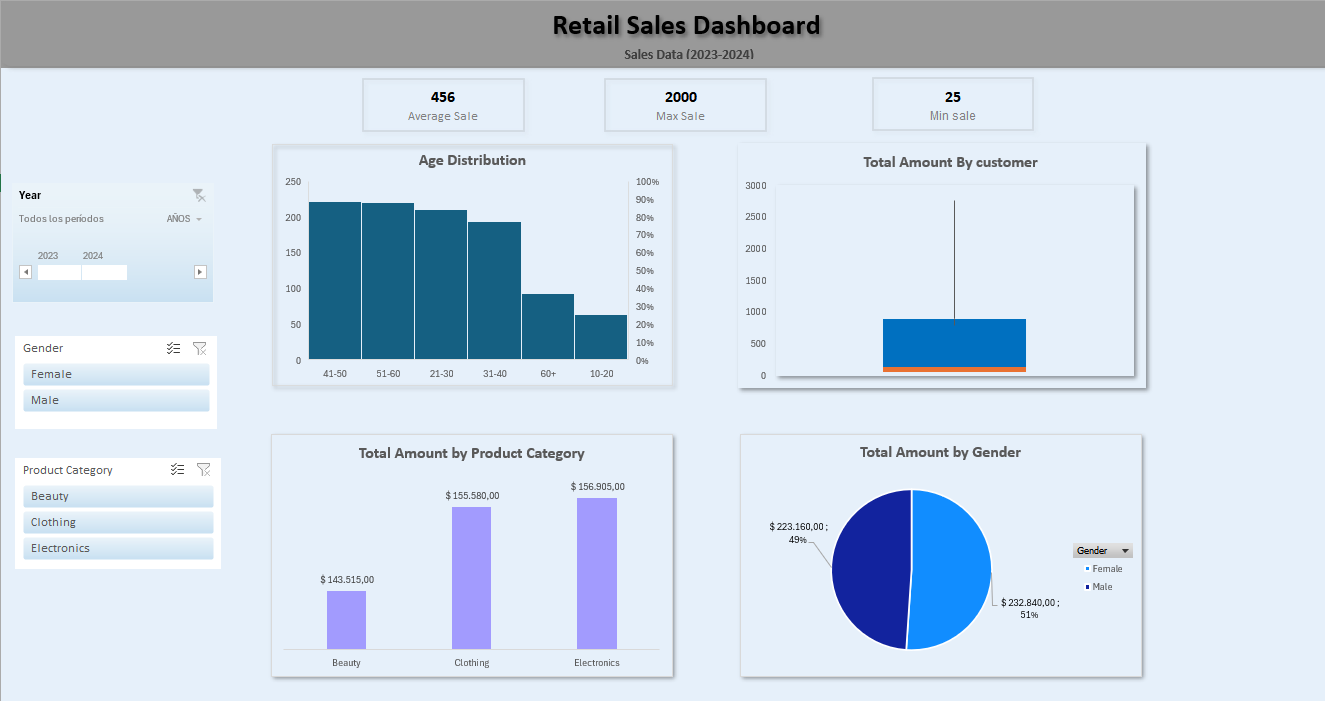

Layout of this report page (visuals, bound fields, positions):
{"tool":"powerbi","page":{"name":"Página 1","canvas":[1280,720],"ordinal":0},"visuals":[{"type":"shape","box":[0,0,1280,82],"z":0},{"type":"histogramF963F133BA02A0B35D286F09F80E9C78","title":"Age distribution","fields":{"col_2":["retail_sales_dataset__2.Age group"],"col_3":["retail_sales_dataset__2.Customer ID"]},"box":[309.6,202.4,400,260],"z":1000},{"type":"BoxandWhiskerByMAQ1823AD39DT234AB532063E128AX","title":"Total amount by customer","fields":{"category":["retail_sales_dataset__2.Customer ID"],"measure":["Sum(retail_sales_dataset__2.Total Amount)"]},"box":[817.6,202.4,400,260],"z":2000},{"type":"clusteredBarChart","title":"Total Amount by Product Category","fields":{"Category":["retail_sales_dataset__2.Product Category"],"Y":["Sum(retail_sales_dataset__2.Total Amount)"]},"box":[309.8,463.1,399.7,248.4],"z":3000},{"type":"pieChart","title":"Total Amount by Gender","fields":{"Category":["retail_sales_dataset__2.Gender"],"Y":["Sum(retail_sales_dataset__2.Total_amount)"]},"box":[817.9,463.1,399.7,248.4],"z":4000},{"type":"card","fields":{"Values":["retail_sales_dataset__2.average sale"]},"box":[153.8,88,280,100],"z":5000},{"type":"card","fields":{"Values":["retail_sales_dataset__2.Max sale"]},"box":[510,88,280,100],"z":6000},{"type":"card","fields":{"Values":["retail_sales_dataset__2.Min sale"]},"box":[863.1,88,280,100],"z":7000},{"type":"slicer","title":"Year","fields":{"Values":["Calendario.Año"]},"box":[0,213.7,290.4,119.6],"z":8000},{"type":"slicer","title":"Gender","fields":{"Values":["retail_sales_dataset__2.Gender"]},"box":[10.2,374.2,280.1,120.6],"z":9000},{"type":"slicer","title":"Category","fields":{"Values":["retail_sales_dataset__2.Product Category"]},"box":[10.2,549,280.1,150.3],"z":10000},{"type":"textbox","box":[10.1,0,1241.5,74.9],"z":11000},{"type":"textbox","box":[513,57.7,299.5,24.3],"z":12000}]}

Visuals, with their boxes on the page's 1280x720 design canvas (x1, y1, x2, y2). These are canvas units, not pixel positions in the 1325x701 screenshot, which may show the page scaled, cropped or inside an application window:
shape: rect(0, 0, 1280, 82)
"Age distribution" histogramF963F133BA02A0B35D286F09F80E9C78: rect(310, 202, 710, 462)
"Total amount by customer" BoxandWhiskerByMAQ1823AD39DT234AB532063E128AX: rect(818, 202, 1218, 462)
"Total Amount by Product Category" clusteredBarChart: rect(310, 463, 710, 712)
"Total Amount by Gender" pieChart: rect(818, 463, 1218, 712)
card - retail_sales_dataset__2.average sale: rect(154, 88, 434, 188)
card - retail_sales_dataset__2.Max sale: rect(510, 88, 790, 188)
card - retail_sales_dataset__2.Min sale: rect(863, 88, 1143, 188)
"Year" slicer: rect(0, 214, 290, 333)
"Gender" slicer: rect(10, 374, 290, 495)
"Category" slicer: rect(10, 549, 290, 699)
textbox: rect(10, 0, 1252, 75)
textbox: rect(513, 58, 812, 82)
